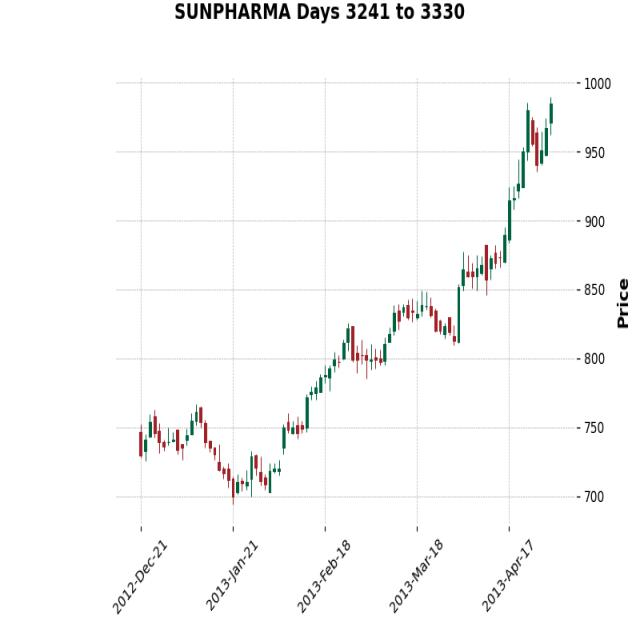Triple Bottom Reversal: (133, 404, 309, 506)
